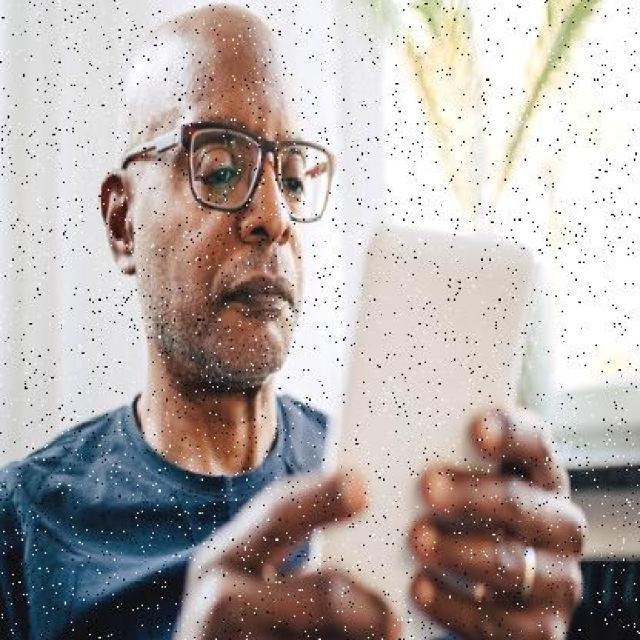glasses: (120, 125, 342, 218)
